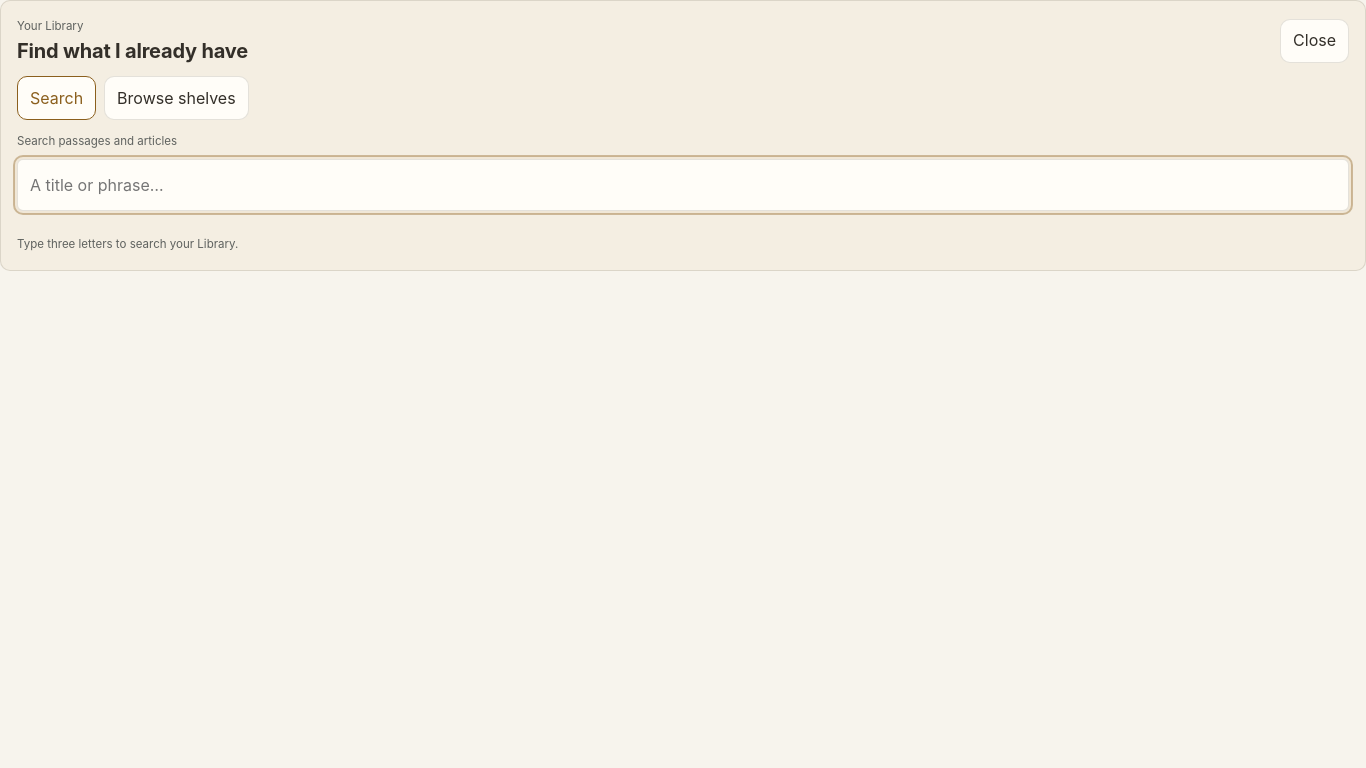
Test: LibraryPassagePicker › treats a search highlight missing from the fresh owned article as unavailable
Type "Nomad" into the search field at point(683, 185), box x1=17 y1=159 x2=1349 y2=211
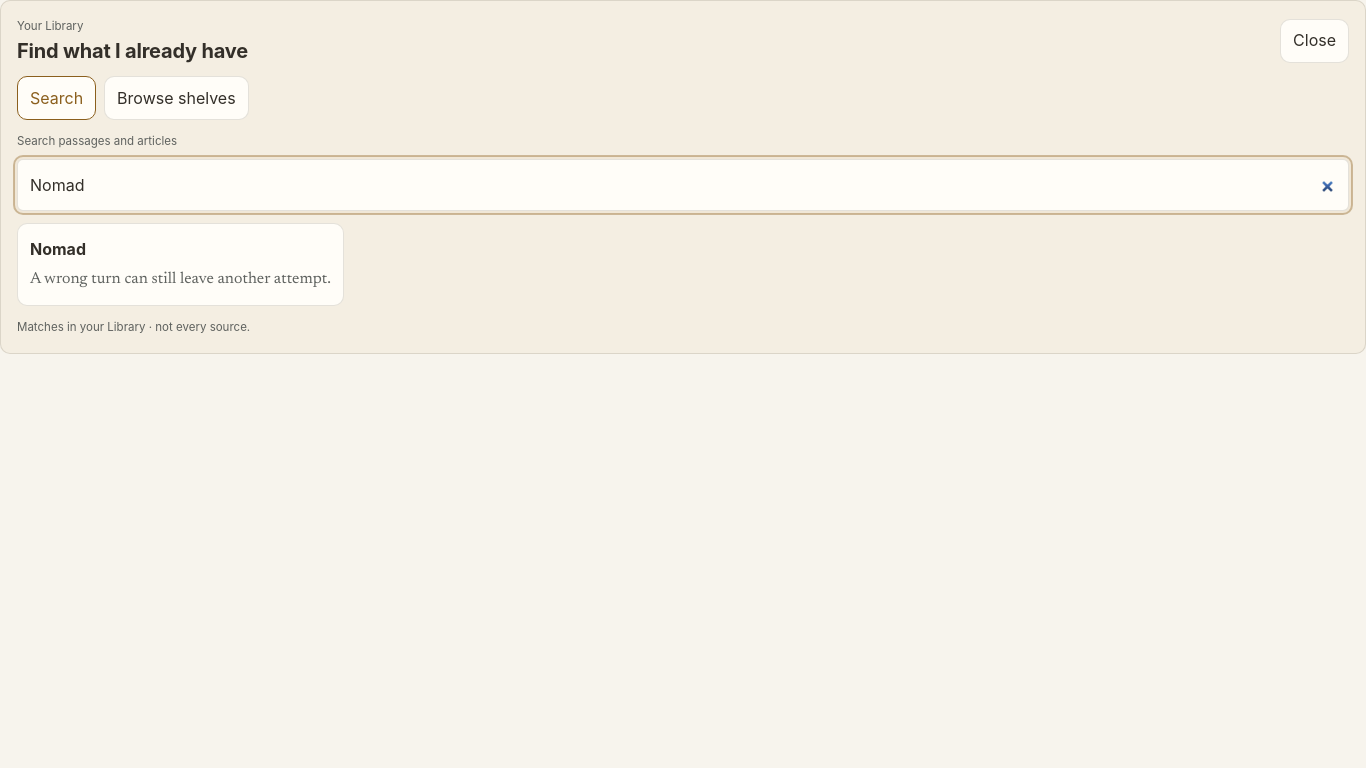
Click the button "Nomad A wrong turn can still leave another attempt." at point(58, 249), box x1=17 y1=223 x2=344 y2=306
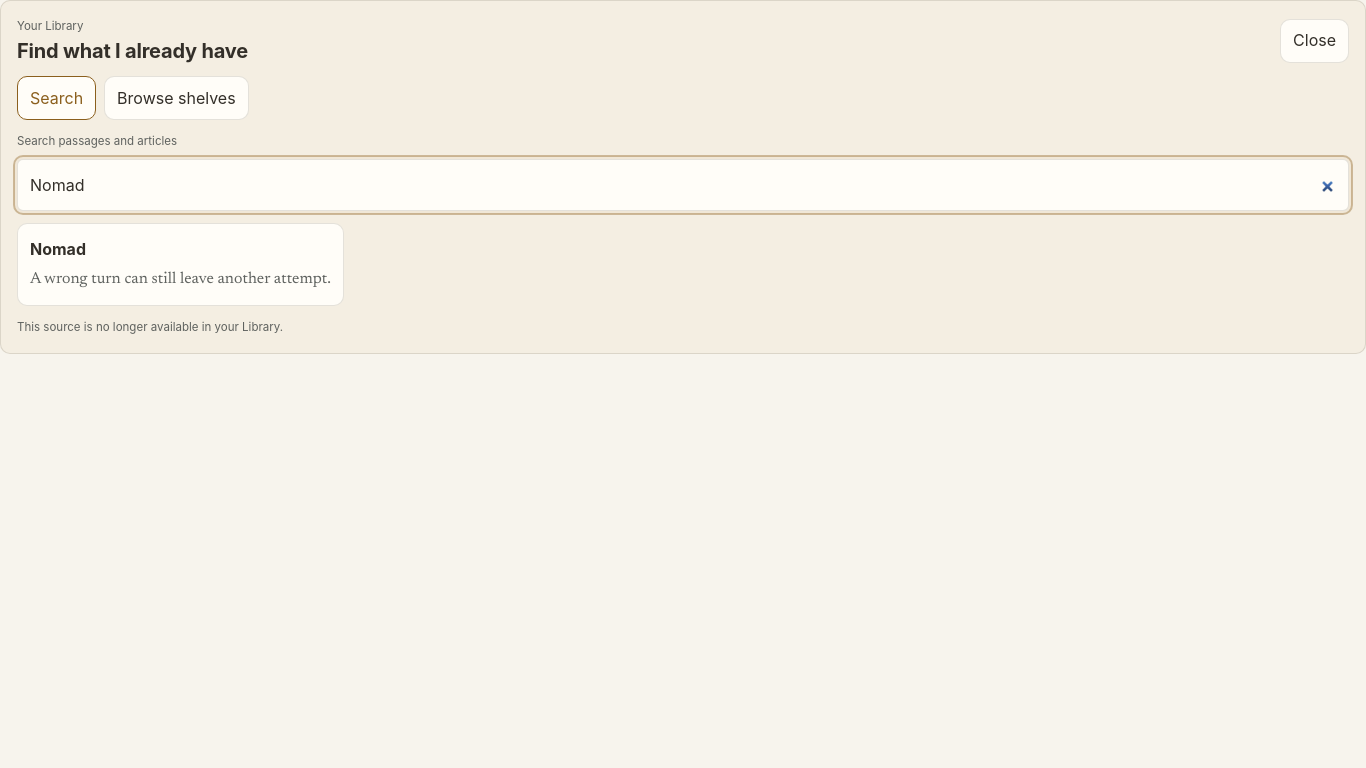
Expected: the message shows "no longer available", x1=17 y1=320 x2=283 y2=334
